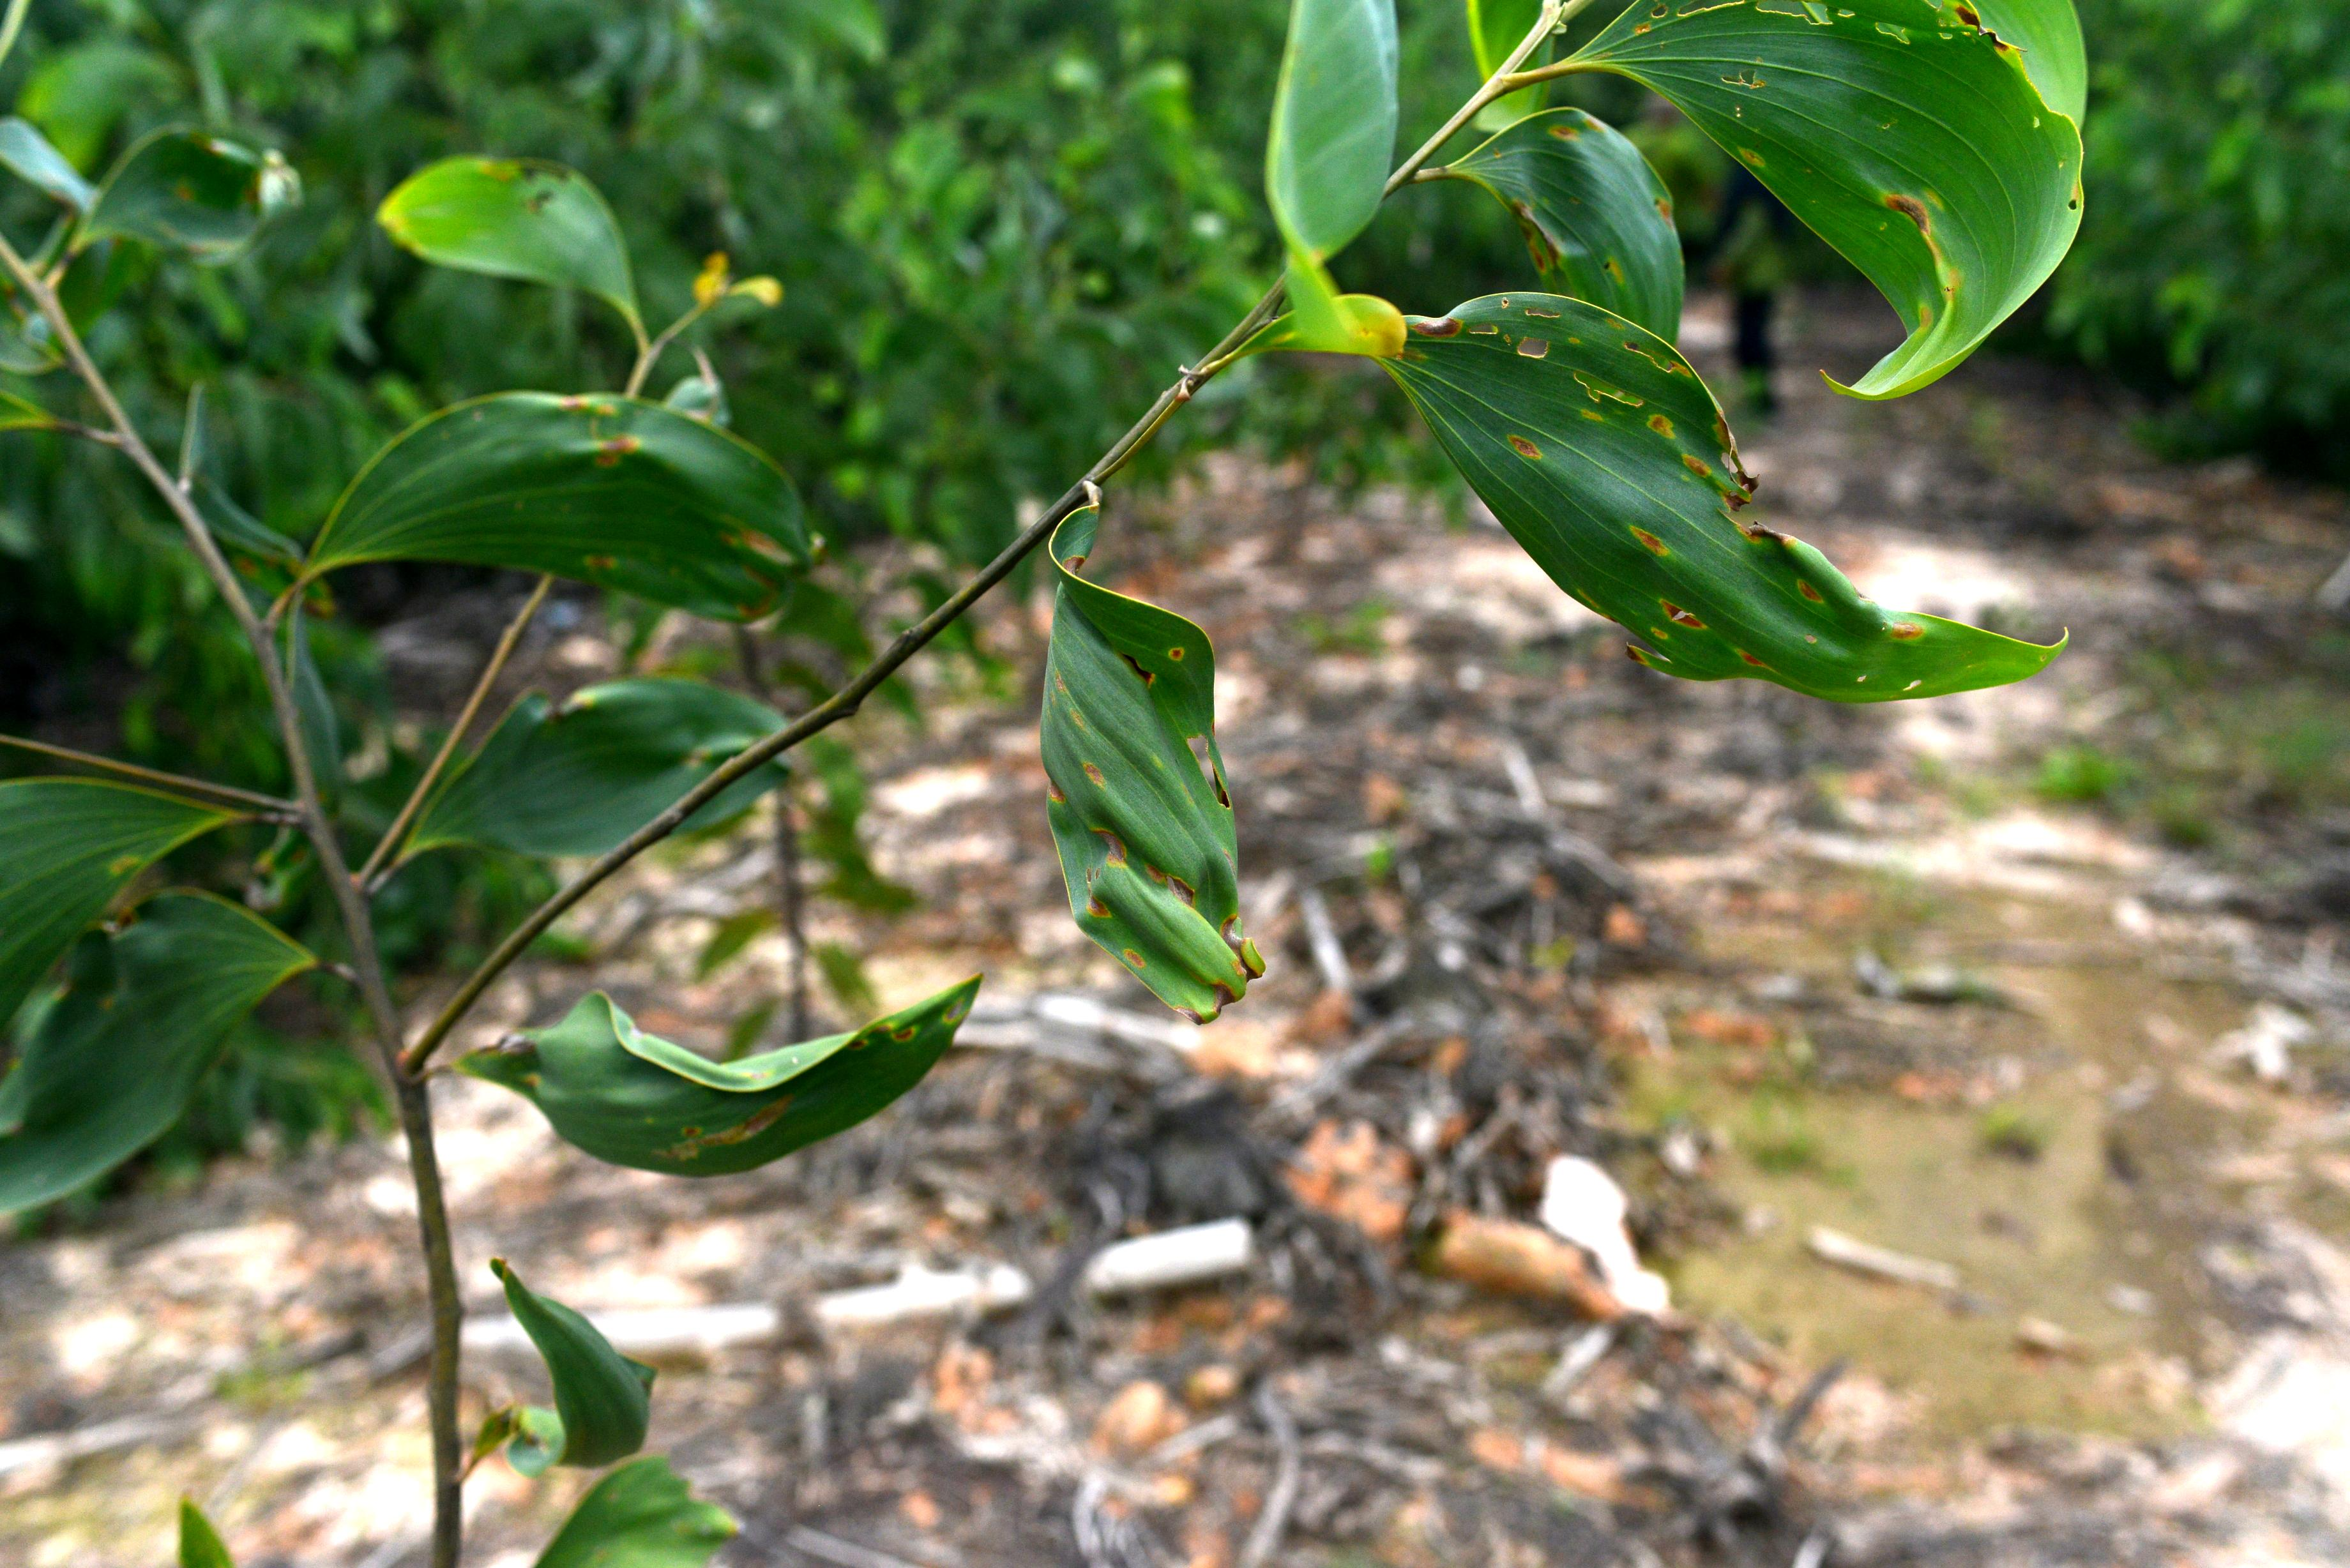Pasalora: (1417, 283, 2070, 709), (282, 387, 826, 633), (1032, 492, 1263, 1034), (464, 971, 989, 1186), (422, 674, 812, 852), (1258, 0, 1403, 364), (472, 1251, 681, 1487), (47, 135, 304, 271)
